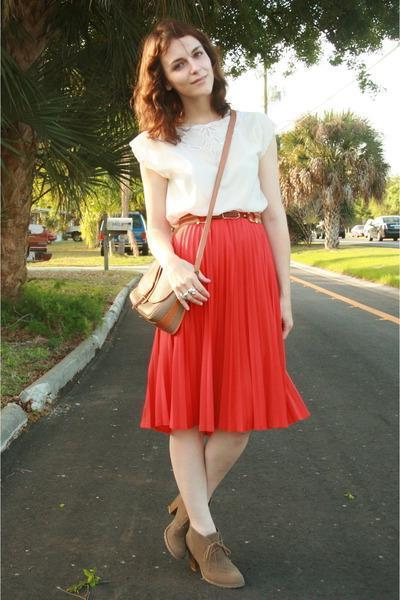short sleeve shirt: (129, 106, 282, 227)
skirt: (138, 211, 312, 438)
